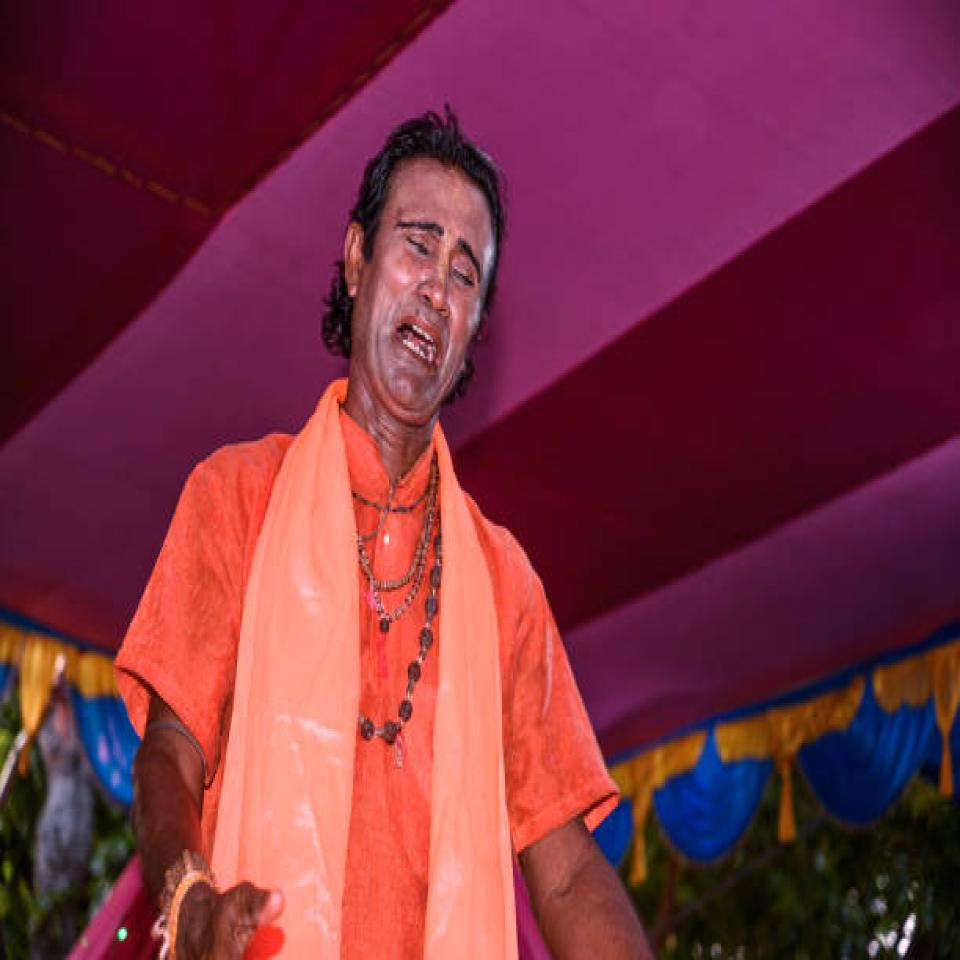Sadness: (357, 189, 488, 423)
